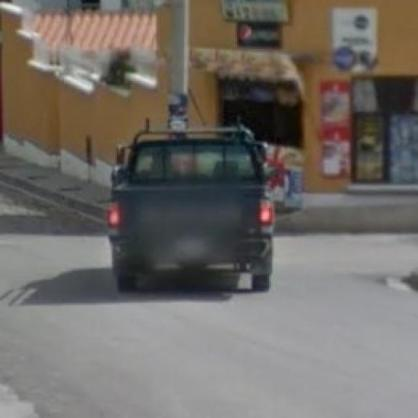car: (111, 123, 278, 299)
